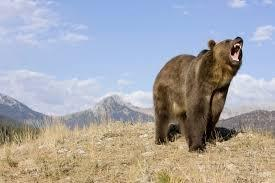bear: (151, 37, 244, 153)
